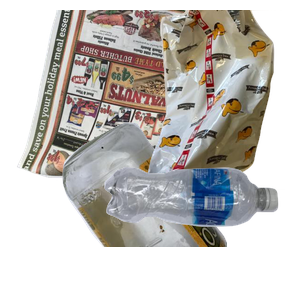glass: (60, 120, 300, 300)
paper: (14, 10, 254, 190)
plastic: (102, 165, 300, 300)
trash: (127, 10, 300, 190)
